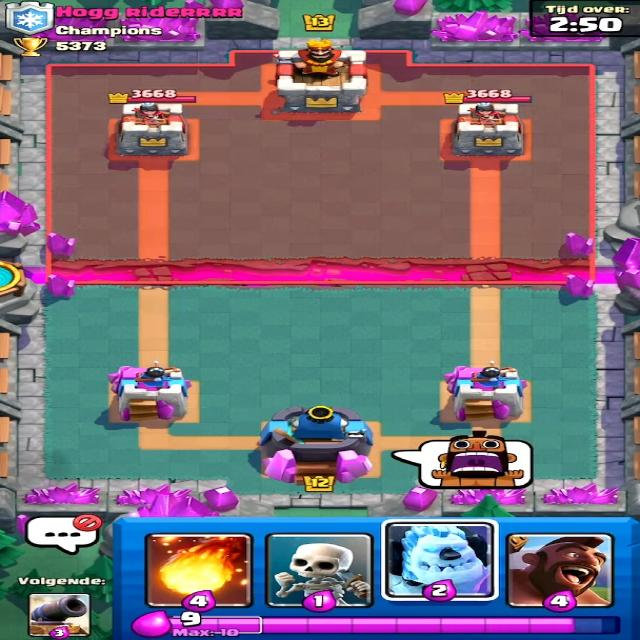Fireball_Card: (146, 533, 246, 608)
Hog_Rider_Card: (502, 526, 604, 600)
Ice_Golem_Card: (387, 521, 498, 601)
Skeleton_Card: (265, 530, 376, 608)
